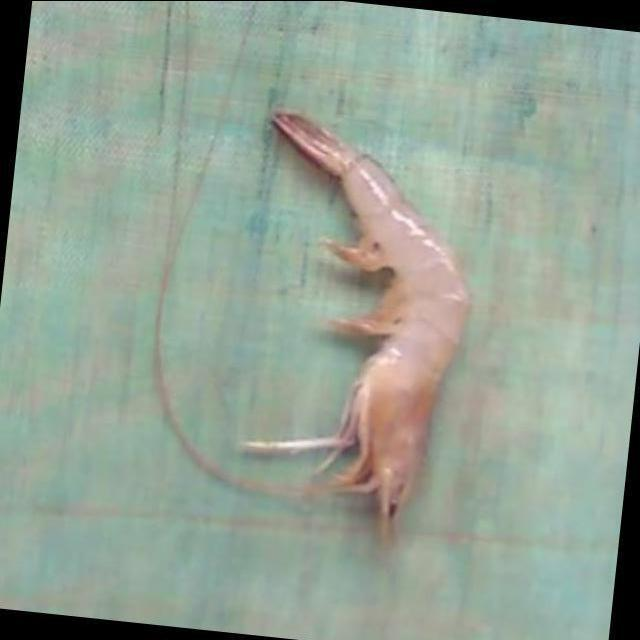shrimp: (243, 112, 469, 538)
